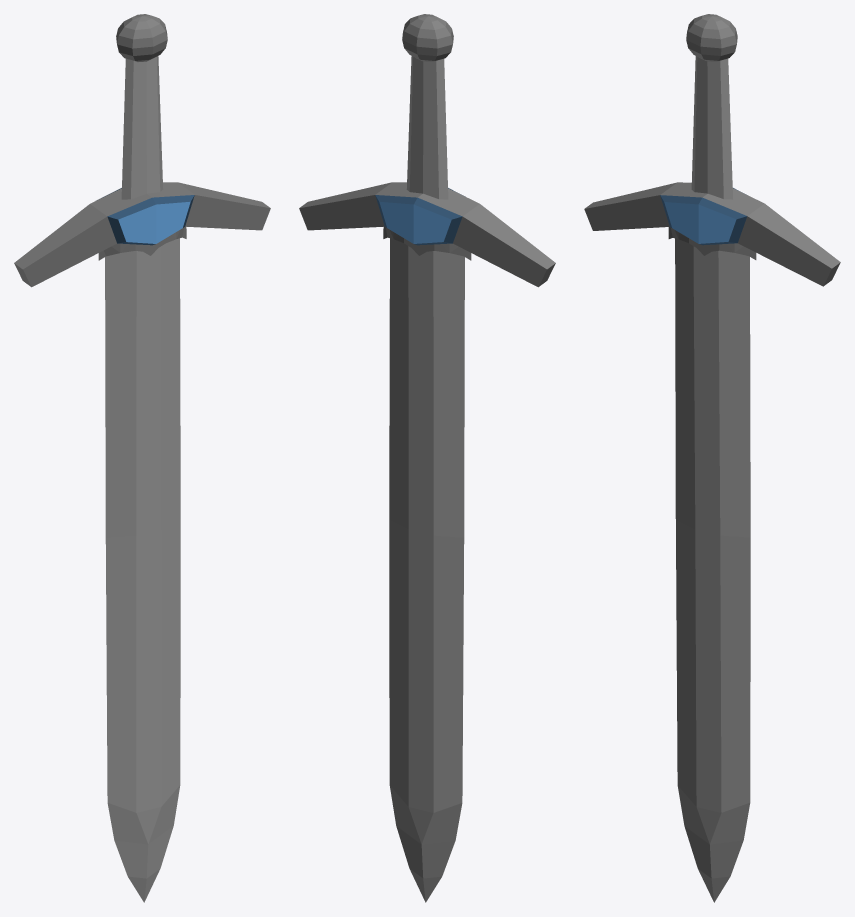
The model's file is Sword_6.fbx.
The picture shows the model from 3 angles, left to right: view 1: azimuth 30°, elevation 25°; view 2: azimuth 150°, elevation 25°; view 3: azimuth 330°, elevation 25°; orthographic projection.
Parts seen in each view (by area): view 1: Sword 1.011; view 2: Sword 1.011; view 3: Sword 1.011.
Part boxes in pixels (x1,y1,x2,y2): Sword 1.011: [14, 14, 270, 902]; Sword 1.011: [299, 14, 555, 902]; Sword 1.011: [584, 14, 840, 902].
Bounding box in the file's own units: 27.21 × 93.01 × 5.25.
